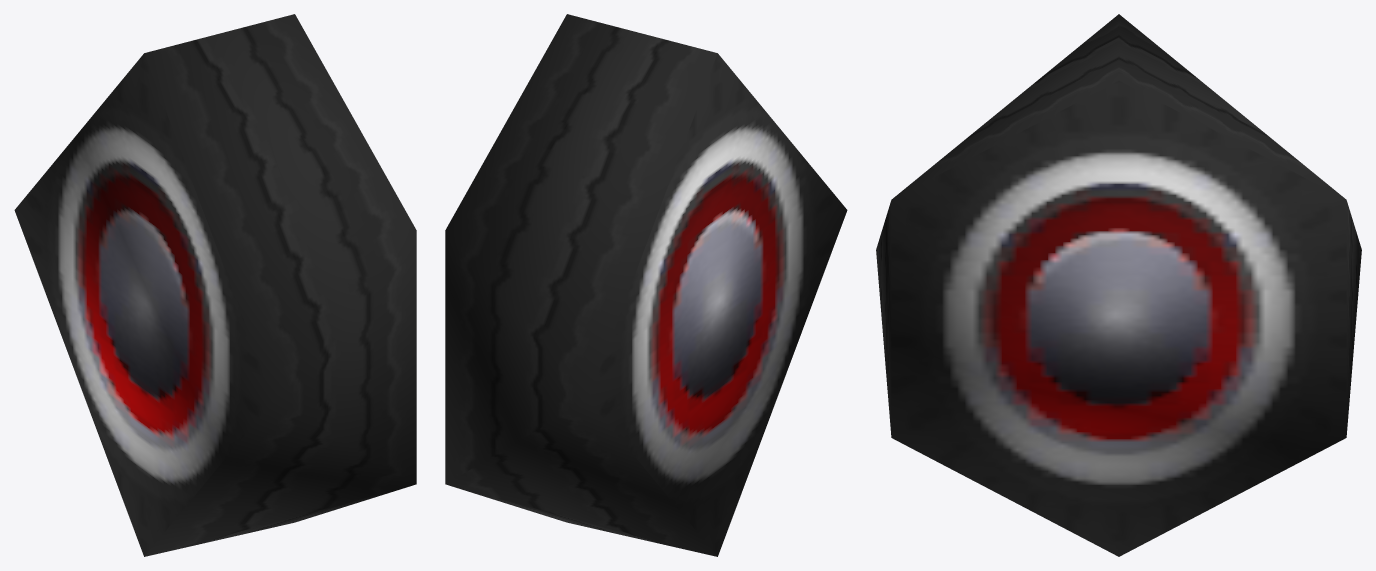
The model's file is tire_classic_L_lod.dae.
3 renders of one model, left to right at view 1: azimuth 30°, elevation 25°; view 2: azimuth 150°, elevation 25°; view 3: azimuth 270°, elevation 25°, orthographic. The views are drawn at different scales.
Visible parts, largest first — view 1: _0_0_node; view 2: _0_0_node; view 3: _0_0_node.
Boxes of the visible parts, x1,y1,x2,y2 form: _0_0_node: [14, 14, 416, 556]; _0_0_node: [445, 14, 847, 556]; _0_0_node: [876, 14, 1361, 556].
Size of the model in its own units: 2.18 by 7.02 by 6.49.
1 material, 1 textured.
